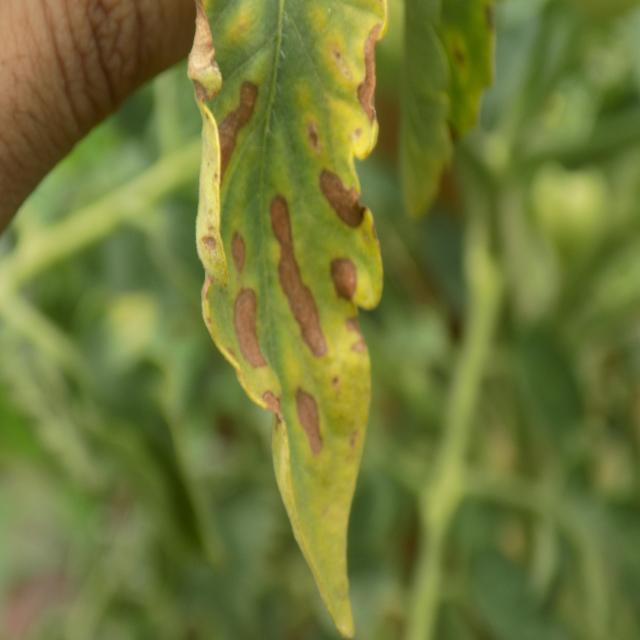tomato_early blight: (186, 0, 386, 640)
